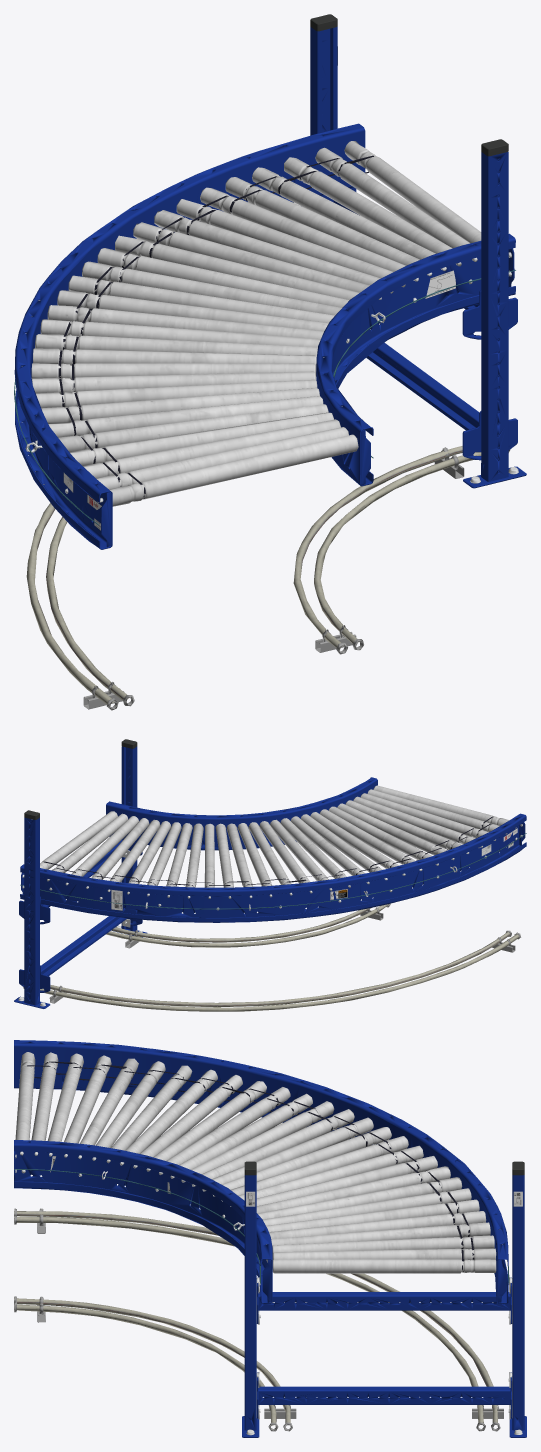
File: conveyor_curve.glb
3 renders of one model, top to bottom at view 1: azimuth 30°, elevation 25°; view 2: azimuth 150°, elevation 25°; view 3: azimuth 270°, elevation 25°, orthographic. The views are drawn at different scales.
Parts seen in each view (by area): view 1: conveyor_curve_mesh; view 2: conveyor_curve_mesh; view 3: conveyor_curve_mesh.
Boxes of the visible parts, <box> form: conveyor_curve_mesh: <box>14,14,526,710</box>; conveyor_curve_mesh: <box>14,739,526,1011</box>; conveyor_curve_mesh: <box>14,1040,526,1437</box>.
Bounding box in the file's own units: 2.1 × 1.17 × 2.07.
8 materials, 4 textured.
